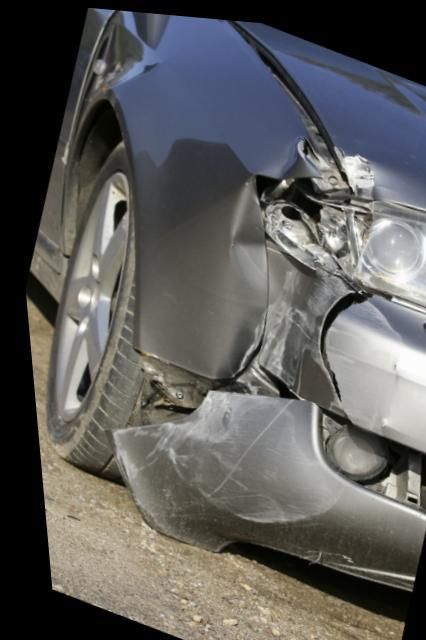crack: (311, 284, 367, 399)
dent: (210, 131, 301, 372), (248, 249, 358, 385), (98, 16, 153, 86), (331, 136, 375, 188)
dislocated part: (102, 349, 420, 588)
lamp broken: (257, 175, 426, 304)
scratch: (100, 387, 337, 520), (320, 294, 400, 426)
